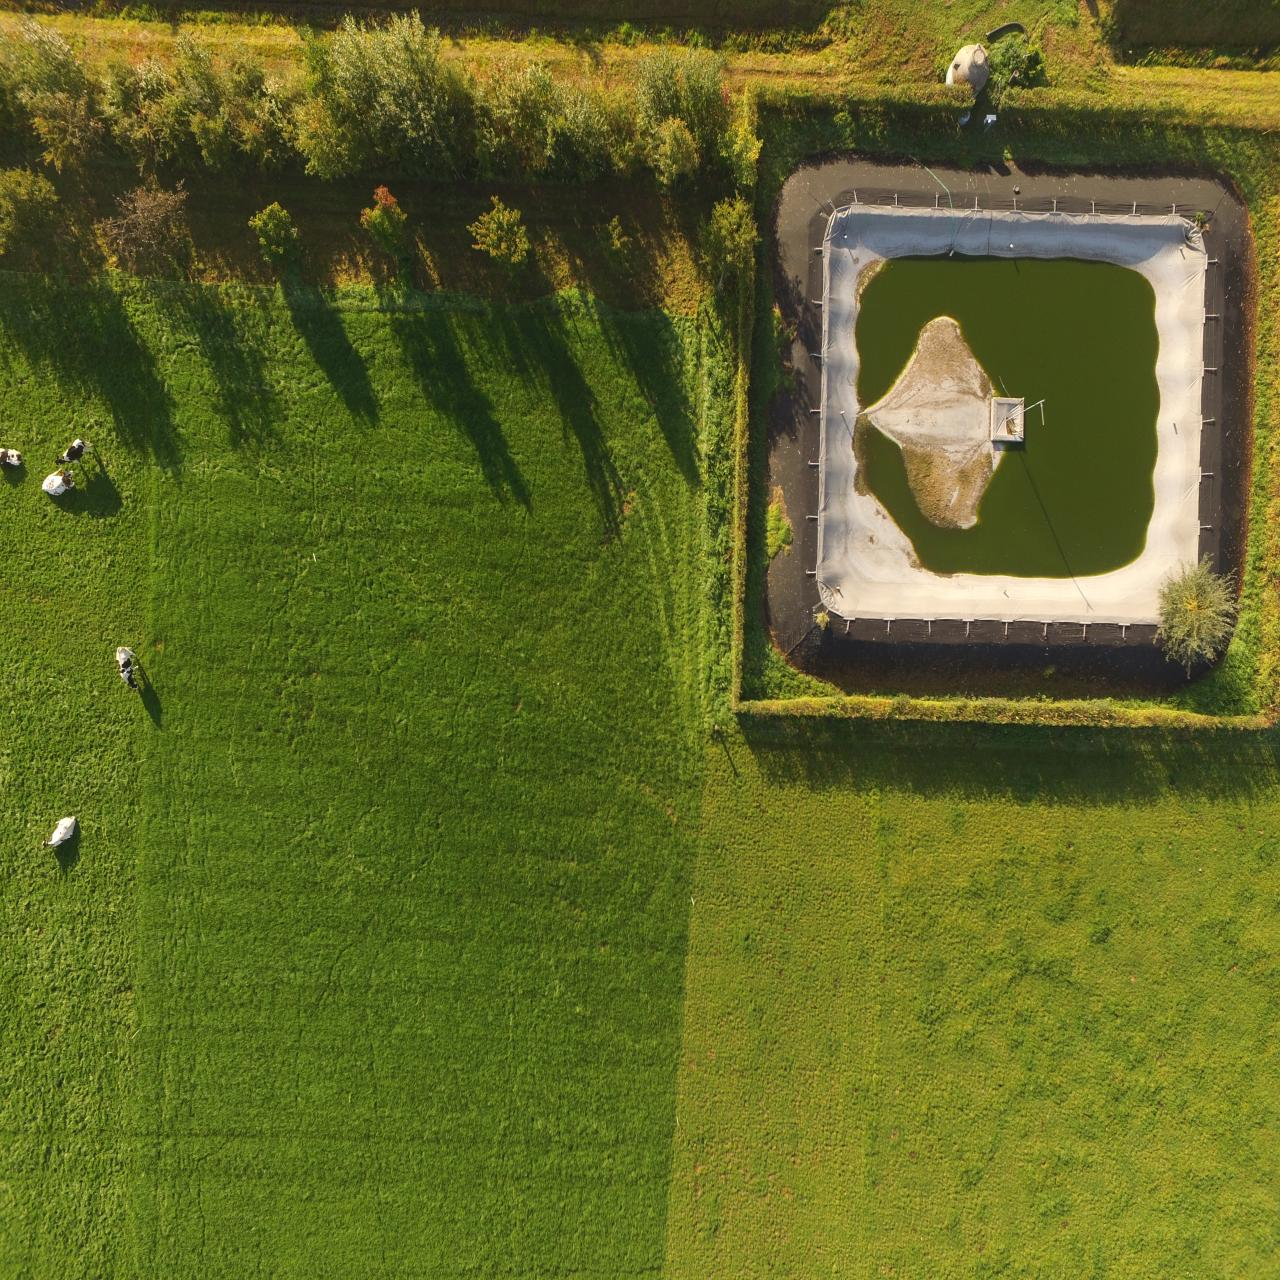cow: (49, 435, 102, 477), (113, 642, 147, 696), (38, 462, 80, 504), (43, 815, 74, 853)
